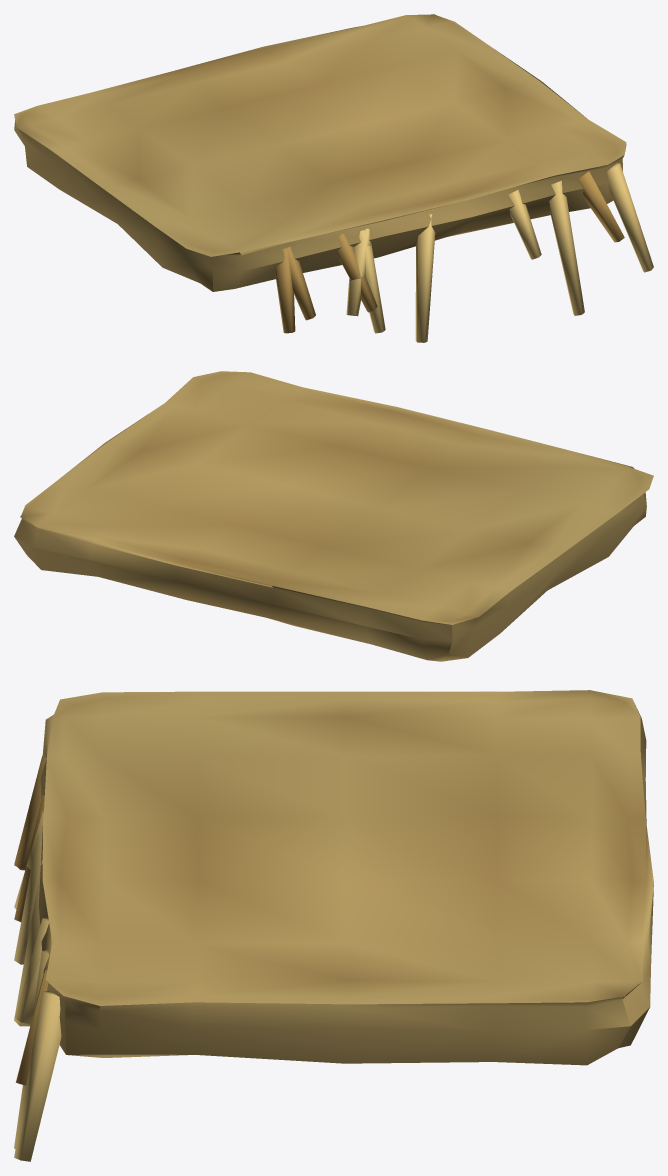
File: shore_straw_ledge.glb
3 renders of one model, top to bottom at view 1: azimuth 30°, elevation 25°; view 2: azimuth 150°, elevation 25°; view 3: azimuth 270°, elevation 25°, orthographic. The views are drawn at different scales.
Visible parts, largest first — view 1: shore_straw_ledge; view 2: shore_straw_ledge; view 3: shore_straw_ledge.
Part boxes in pixels (box(x1,y1,x2,y2)): shore_straw_ledge: box(14, 14, 653, 342); shore_straw_ledge: box(14, 371, 653, 661); shore_straw_ledge: box(14, 690, 653, 1161).
Bounding box in the file's own units: 3.24 × 0.947 × 2.77.
